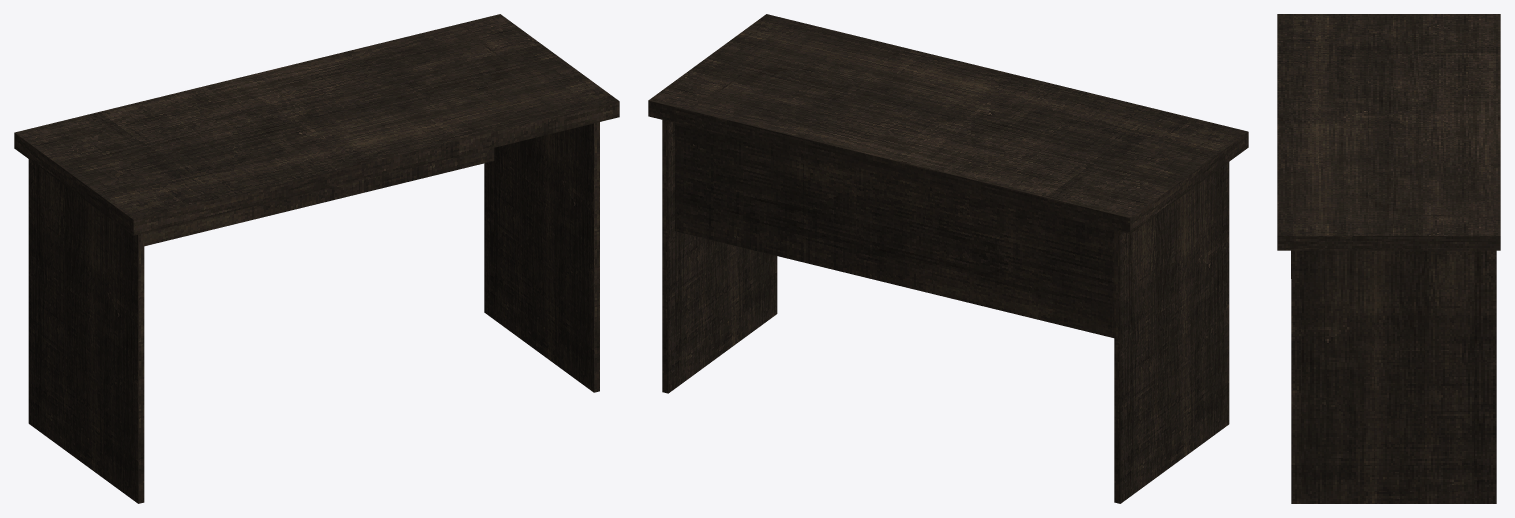
The model's file is table_large_3_2.glb.
3 renders of one model, left to right at view 1: azimuth 30°, elevation 25°; view 2: azimuth 150°, elevation 25°; view 3: azimuth 270°, elevation 25°, orthographic. The views are drawn at different scales.
Visible parts, largest first — view 1: table_large_3_2; view 2: table_large_3_2; view 3: table_large_3_2.
Part boxes in pixels (bbox=[...]): table_large_3_2: bbox=[14, 14, 619, 503]; table_large_3_2: bbox=[648, 14, 1248, 503]; table_large_3_2: bbox=[1277, 14, 1500, 503].
Size of the model in its own units: 1.6 by 0.92 by 0.68.
Materials: 1 (1 with a texture image).
